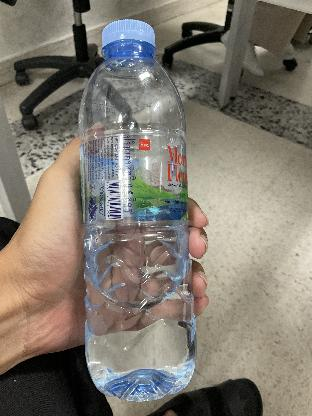Plastic Bottle: (70, 20, 208, 402)
